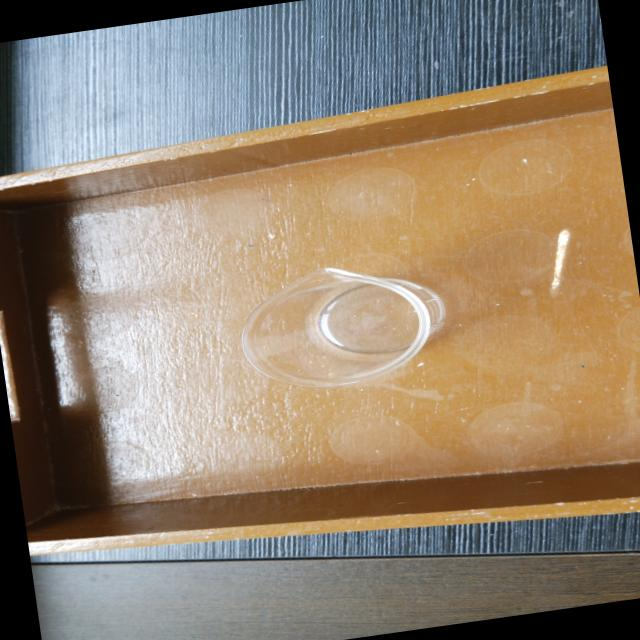beaker: (226, 247, 466, 404)
